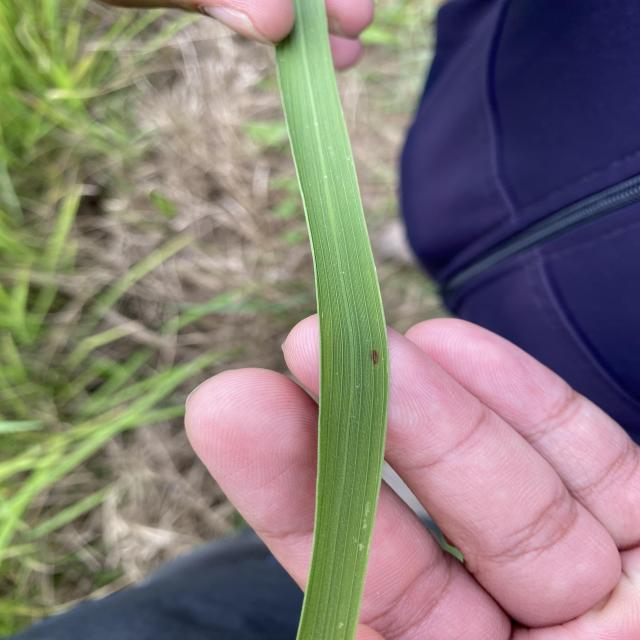Dom nau: (370, 347, 379, 367)
